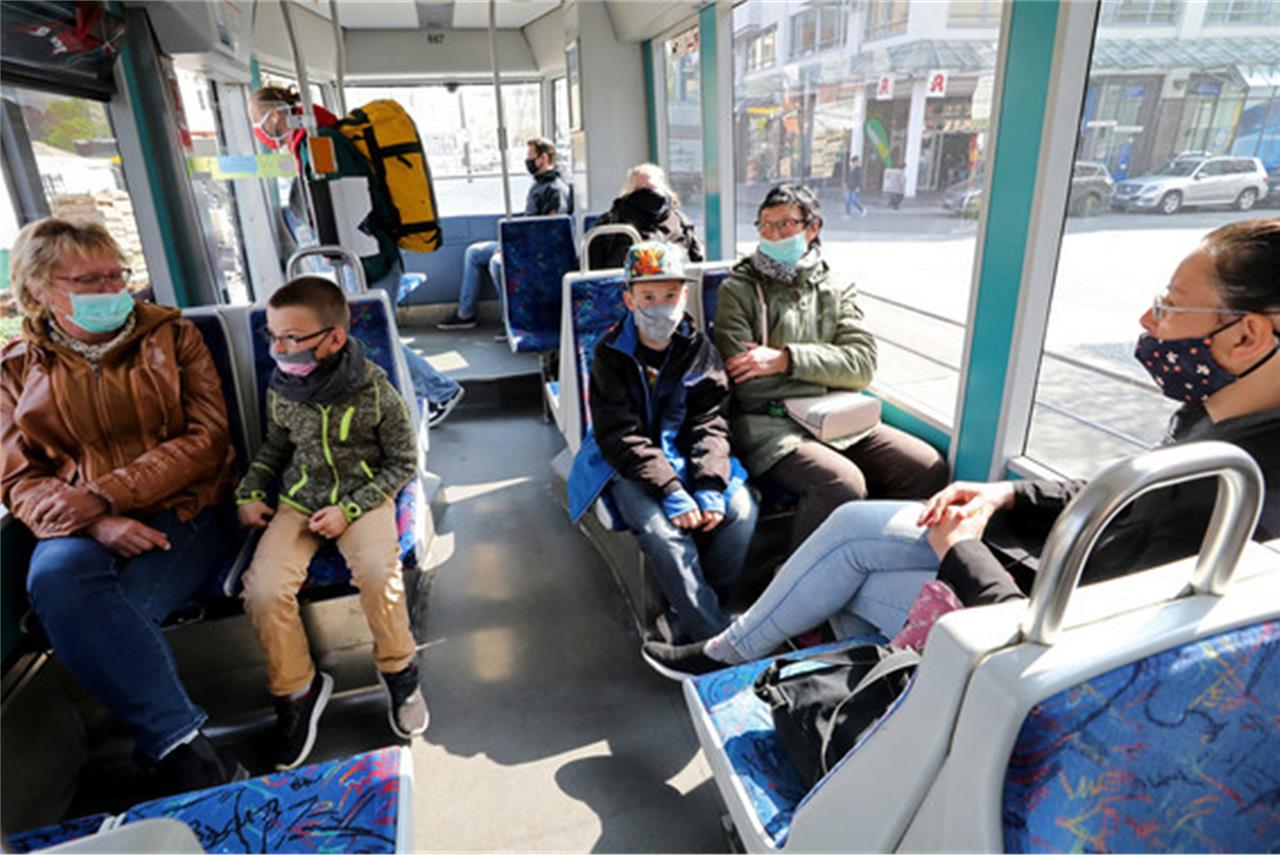mask_weared_incorrect: (1136, 268, 1237, 397), (264, 320, 326, 376)
with_mask: (59, 270, 144, 335), (632, 290, 687, 341), (754, 214, 808, 258), (240, 103, 286, 150), (624, 173, 670, 217), (520, 146, 548, 177)
